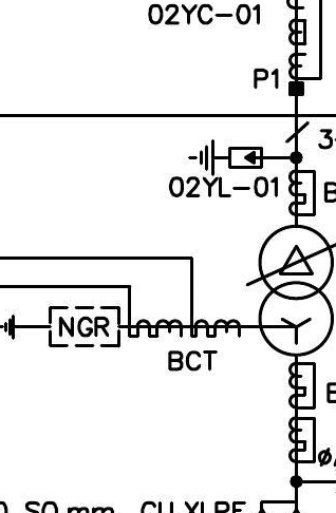11522_tx_dyn1: (258, 224, 335, 358)
115_la: (187, 138, 264, 177)
